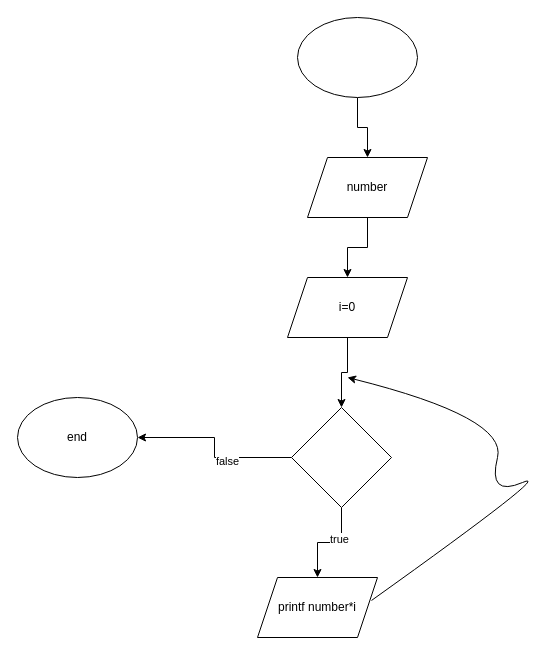
Image size: 546x655. Some labels were removed from this diagram. The centre of each missing label's shape, as x and y in pixels:
i<10: (341,457)
start: (357,57)
